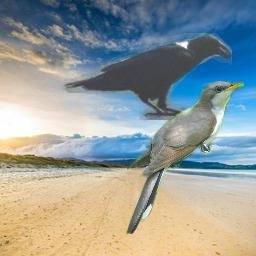Crow: (62, 33, 232, 120)
Cuckoo: (126, 81, 244, 234)
